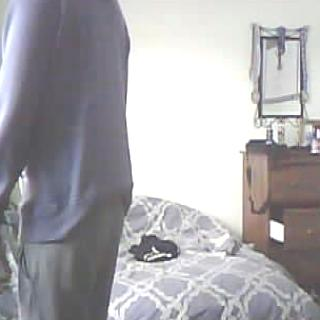Blue Hoodie: (0, 0, 131, 240)
Gray Sweatpants: (12, 229, 120, 320)
